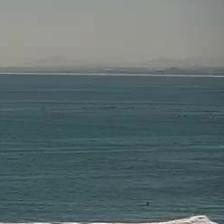surfer: (146, 202, 150, 206)
